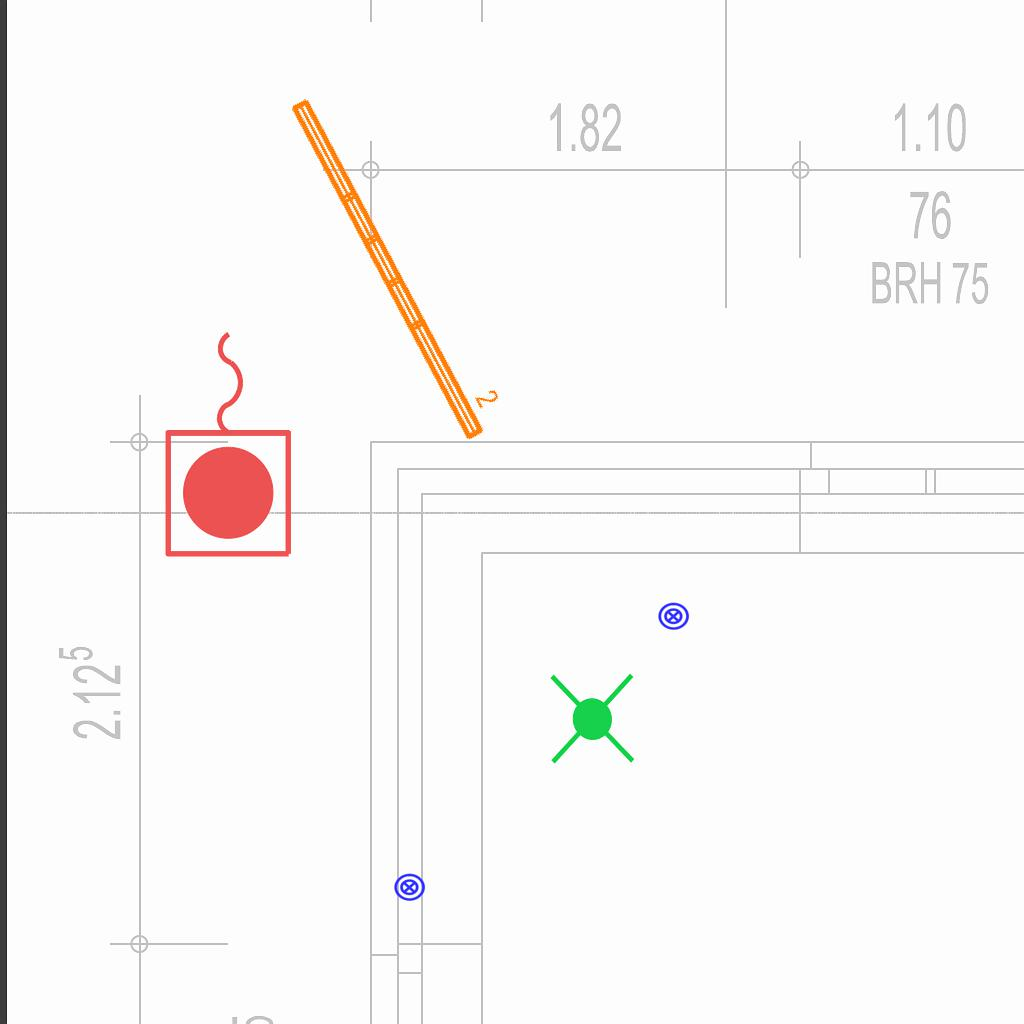Ambulanz_Pendelleuchte_LED: (282, 79, 515, 447)
Notlichtbaustein_in_Allgemeinbeleuchtug_engebaut_Einbau_(1UG_und_2UG_Aufbauvaria: (542, 669, 645, 769)
Taster_beleuchtet: (657, 600, 690, 633), (393, 871, 426, 904)
Zugtaster: (158, 321, 302, 565)
